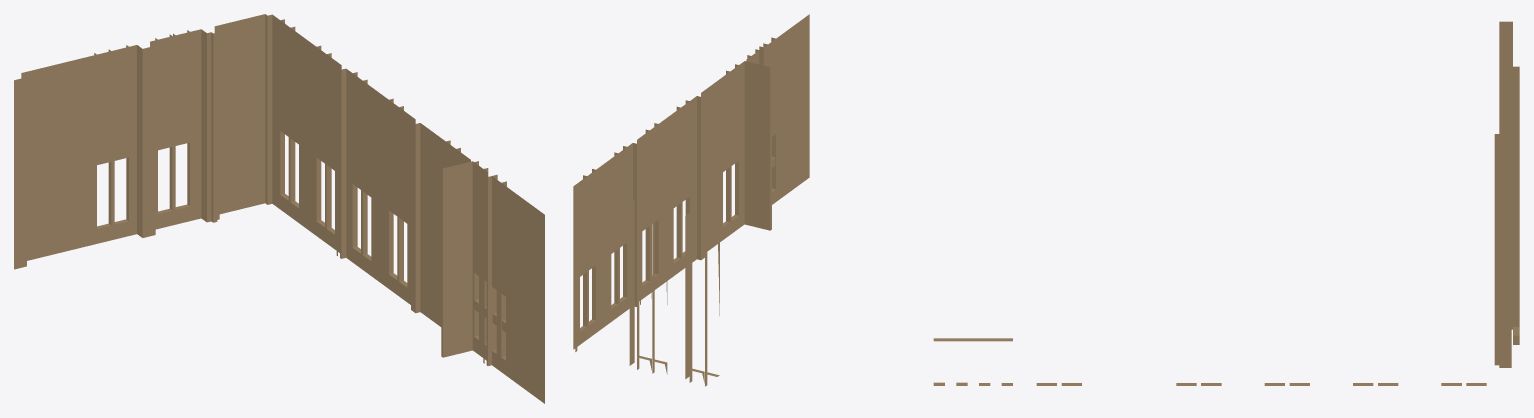
Rendered from ConferenceRoom9.gltf.
The picture shows the model from 3 angles, left to right: view 1: azimuth 30°, elevation 25°; view 2: azimuth 150°, elevation 25°; view 3: azimuth 270°, elevation 25°; orthographic projection. The views are drawn at different scales.
Parts seen in each view (by area): view 1: 室内-二层墙体Part2; view 2: 室内-二层墙体Part2; view 3: 室内-二层墙体Part2.
Boxes of the visible parts, left/top/right/bottom form: 室内-二层墙体Part2: left=14, top=14, right=544, bottom=403; 室内-二层墙体Part2: left=573, top=14, right=809, bottom=386; 室内-二层墙体Part2: left=933, top=21, right=1519, bottom=385.
Size of the model in its own units: 16.55 by 11.26 by 30.05.
